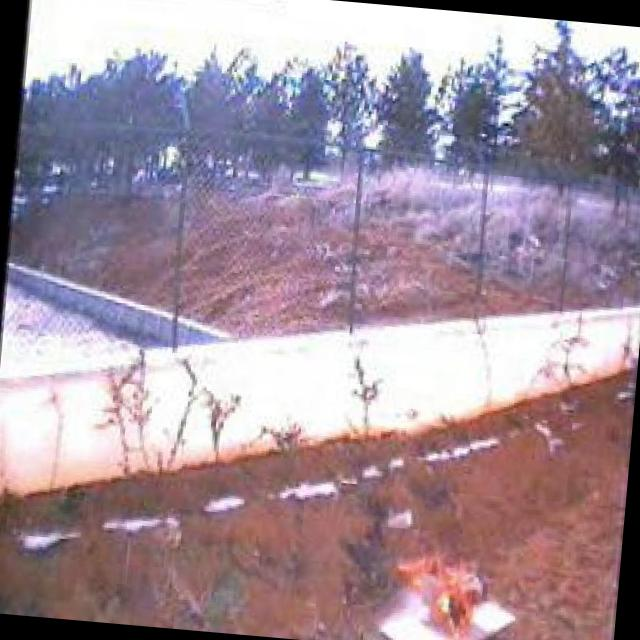Fire: (375, 535, 502, 640)
